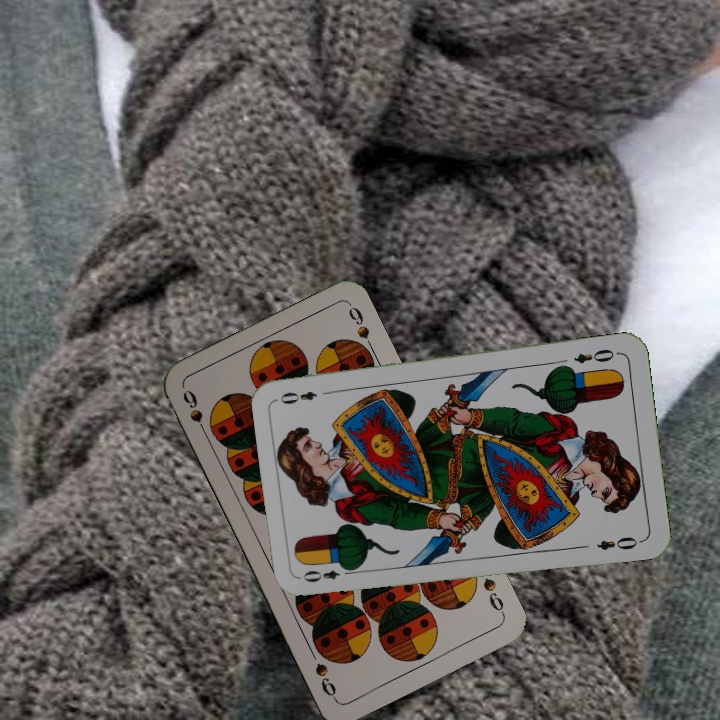EO: (299, 562, 357, 585), (570, 345, 622, 366)
S9: (178, 385, 211, 441), (478, 573, 508, 618)
